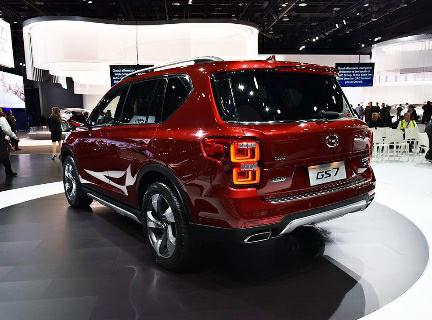广汽传祺-传祺GS7: (56, 58, 380, 271)
